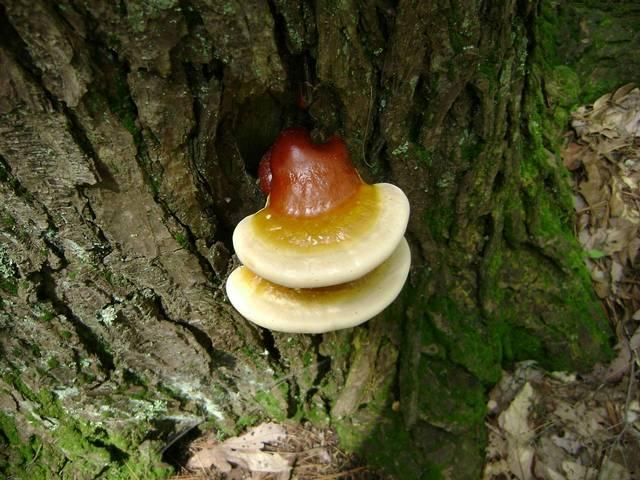poisonous_mushroom: (224, 125, 412, 334)
